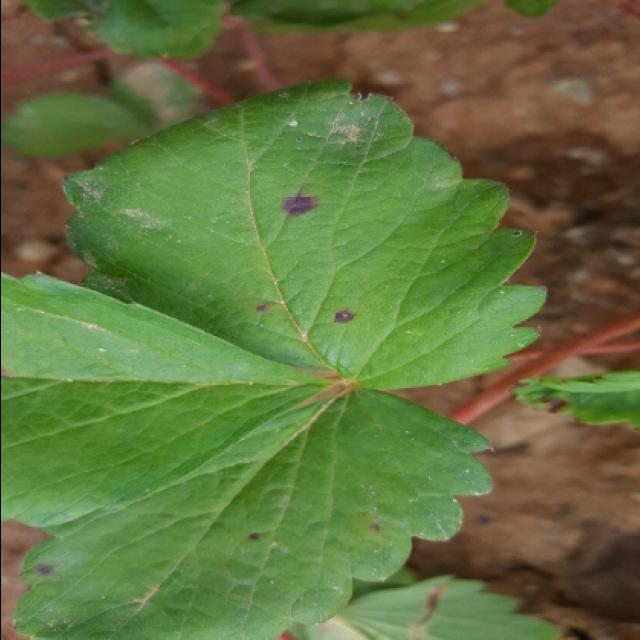Leaf Spot: (58, 79, 547, 390), (10, 386, 498, 640)
